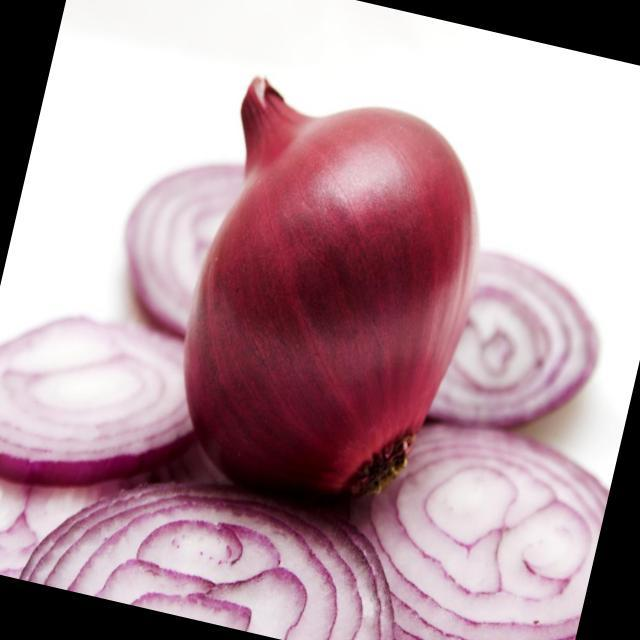ONIONS: (169, 67, 502, 494), (6, 430, 424, 640), (337, 346, 630, 640), (0, 285, 211, 484), (423, 230, 622, 436), (105, 117, 266, 342)
